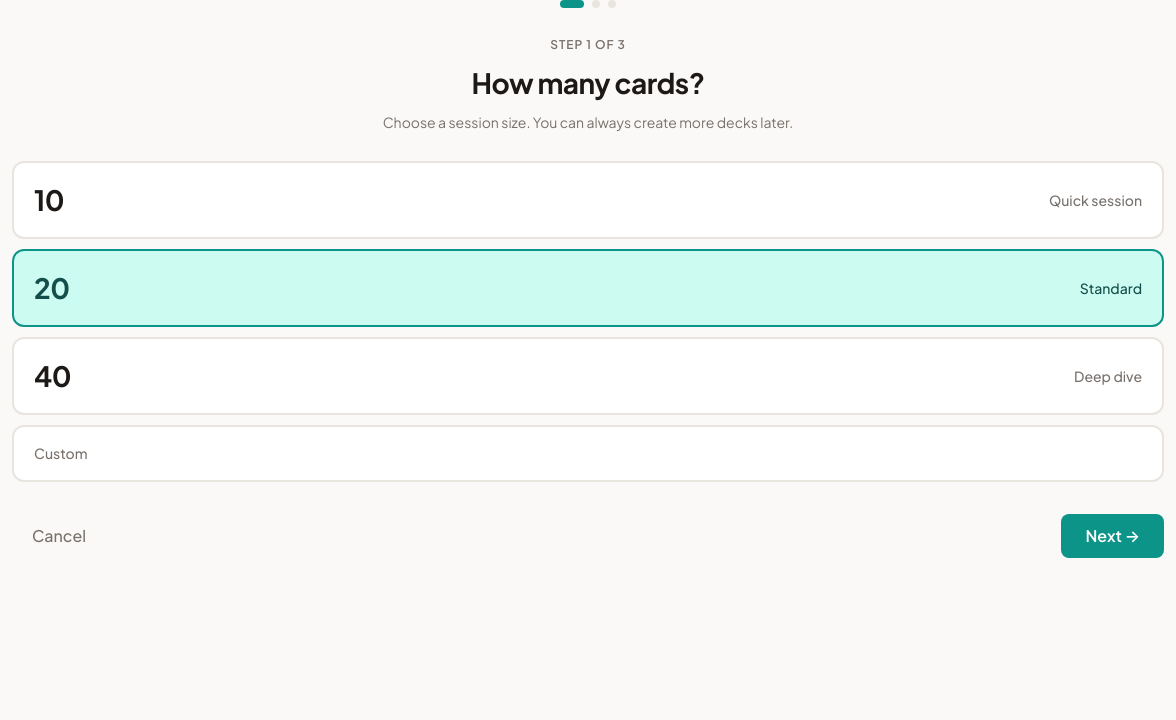
it: DeckConfigPanel — step 1, size › allows advancing once a valid custom size is typed
This screenshot has width=1176, height=720.
Click the button "Custom" at (61, 453), box [12,425,1164,482]
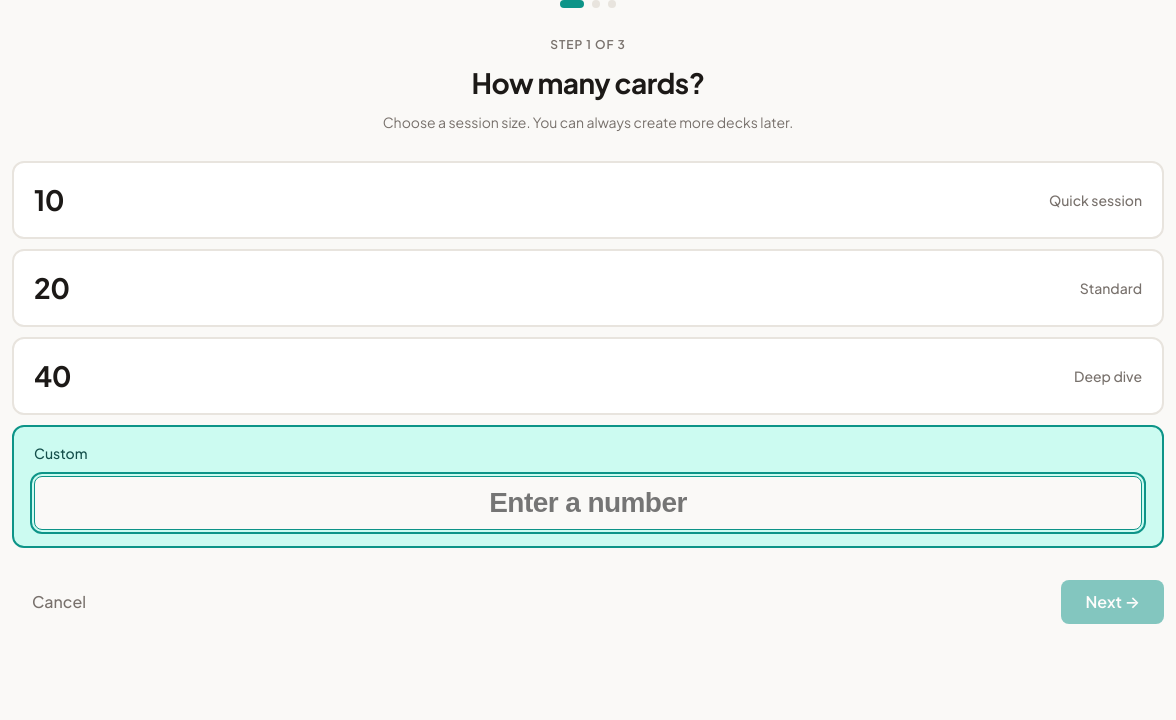
Type "15" into the number field named "Custom deck size" at (588, 503), box [34,476,1142,530]
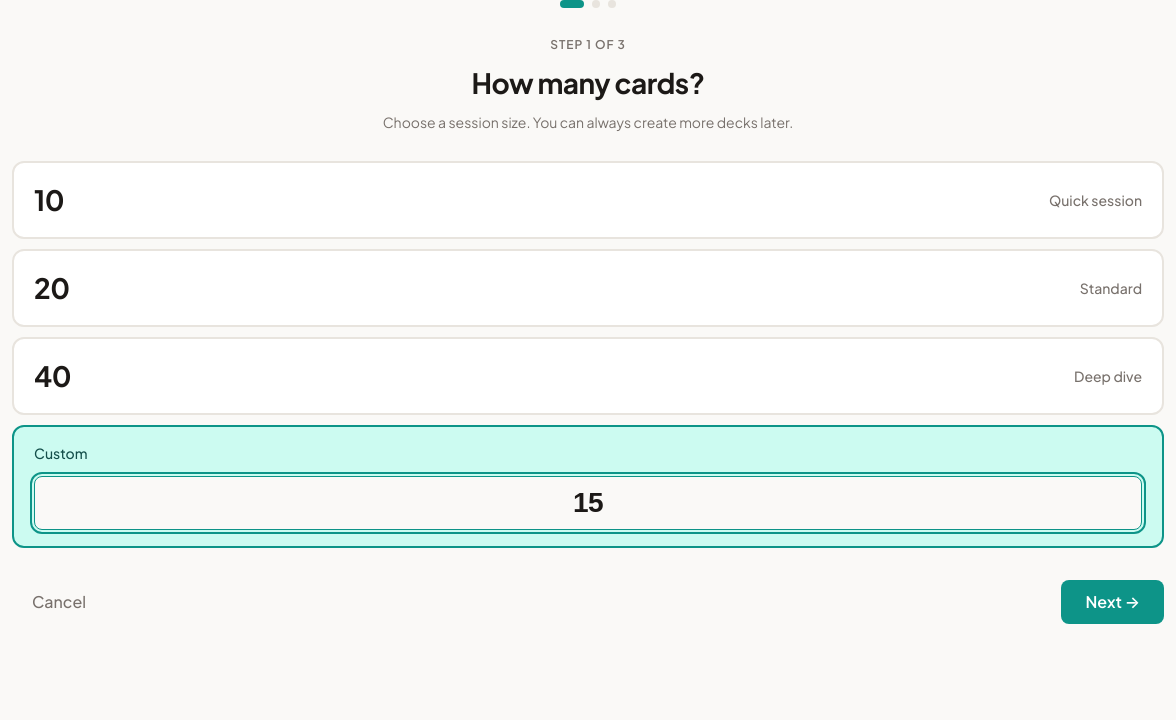
expect the button "Next →" is enabled: met, box [1061,580,1164,624]
